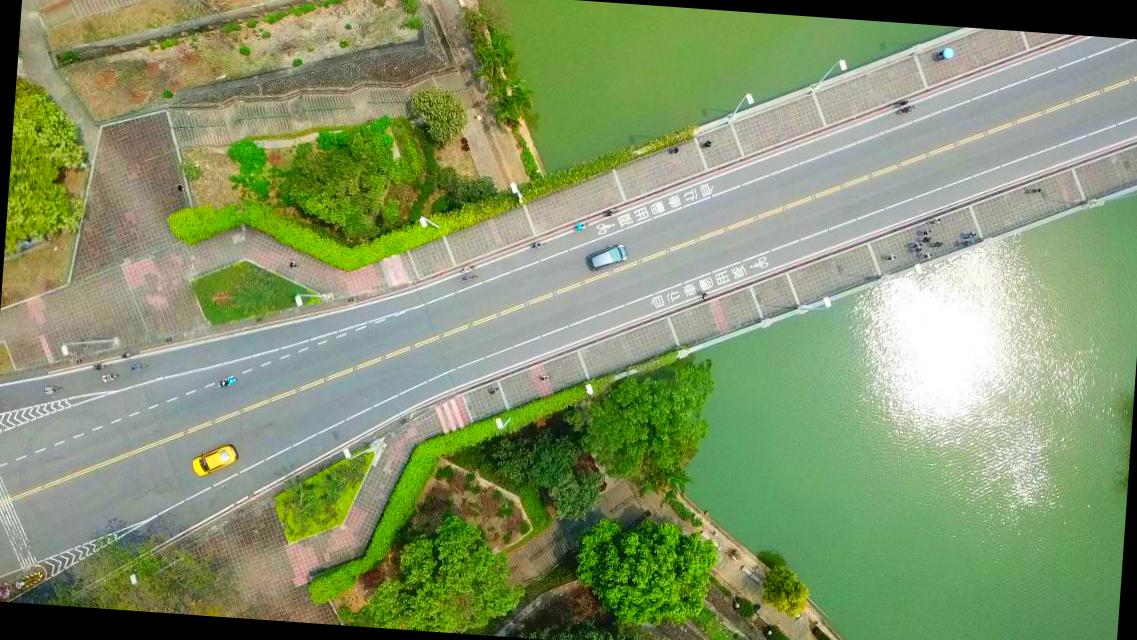vehicle: (190, 441, 238, 478), (586, 241, 628, 274)
